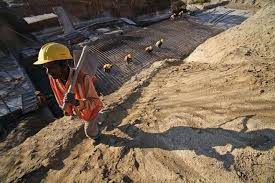arm: (74, 76, 105, 115)
face: (42, 60, 69, 78)
helmet: (35, 39, 73, 66), (104, 62, 115, 69), (159, 36, 167, 43), (127, 52, 133, 58), (148, 45, 153, 50)
human: (30, 37, 101, 134)
leg: (81, 119, 106, 148)
noglove: (62, 89, 76, 107)
vest: (47, 68, 95, 119)
